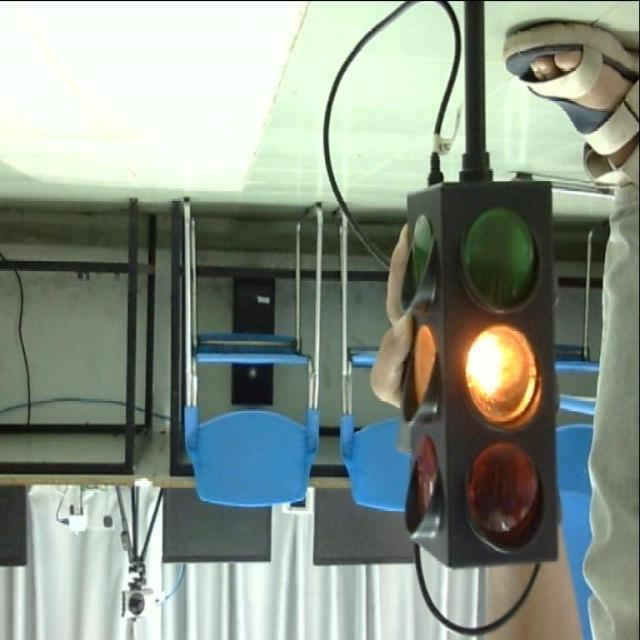yellow_light: (402, 179, 556, 565)
